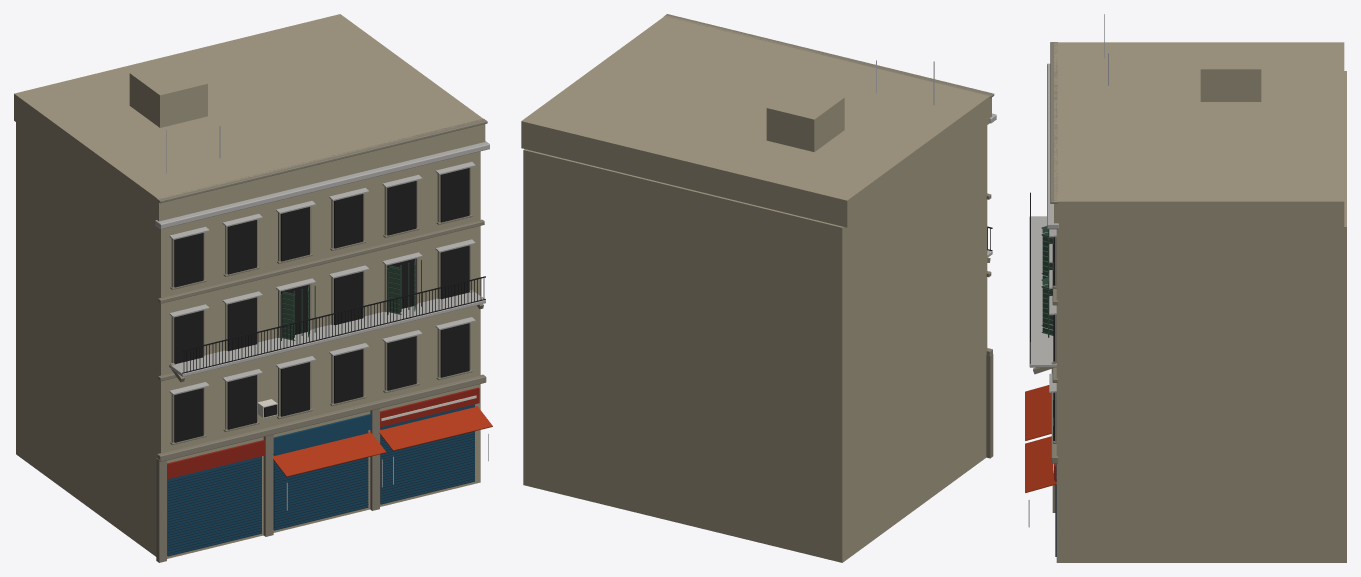
File: KIT_BLDG_C.glb
The picture shows the model from 3 angles, left to right: view 1: azimuth 30°, elevation 25°; view 2: azimuth 150°, elevation 25°; view 3: azimuth 270°, elevation 25°; orthographic projection.
Parts seen in each view (by area): view 1: KIT_BLDG_C; view 2: KIT_BLDG_C; view 3: KIT_BLDG_C.
Part boxes in pixels (left/top/right/bottom): KIT_BLDG_C: left=14, top=14, right=492, bottom=562; KIT_BLDG_C: left=521, top=14, right=996, bottom=562; KIT_BLDG_C: left=1025, top=14, right=1346, bottom=562.
Size of the model in its own units: 14.44 by 17.02 by 12.2.
